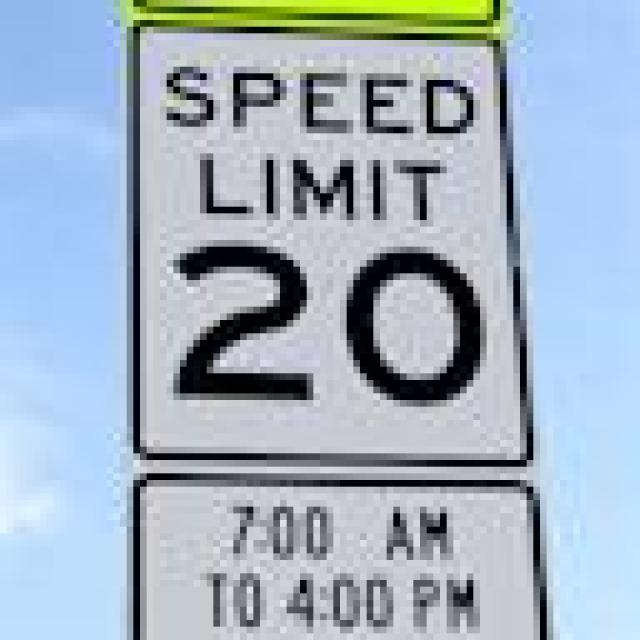speedLimit20: (130, 37, 530, 470)
